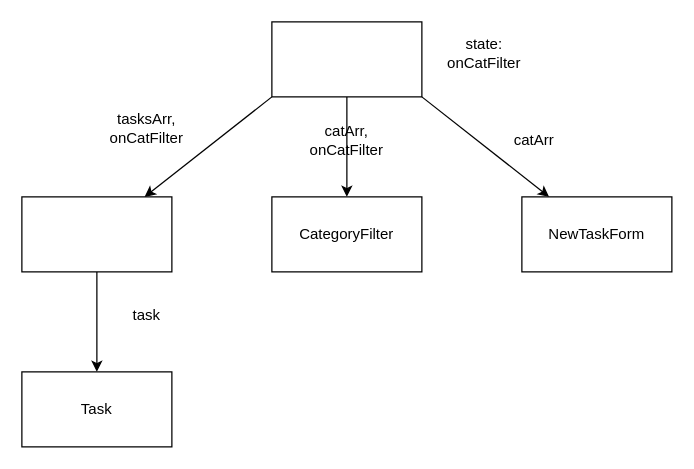
The diagram is 694 pixels wide and 469 high, and some of its shapes have lost their labels. The shapes that lost their labels are listed below. From the top down, each one's box as (x1, y1, x2, y2) in pixels, then its label:
(271, 21, 422, 97): App
(21, 196, 172, 272): TaskList
